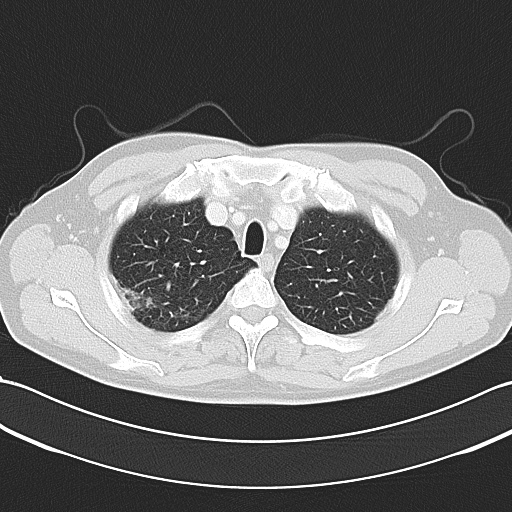Copy of non-cancer: (296, 240, 365, 291)
non-cancer: (123, 274, 192, 325)
